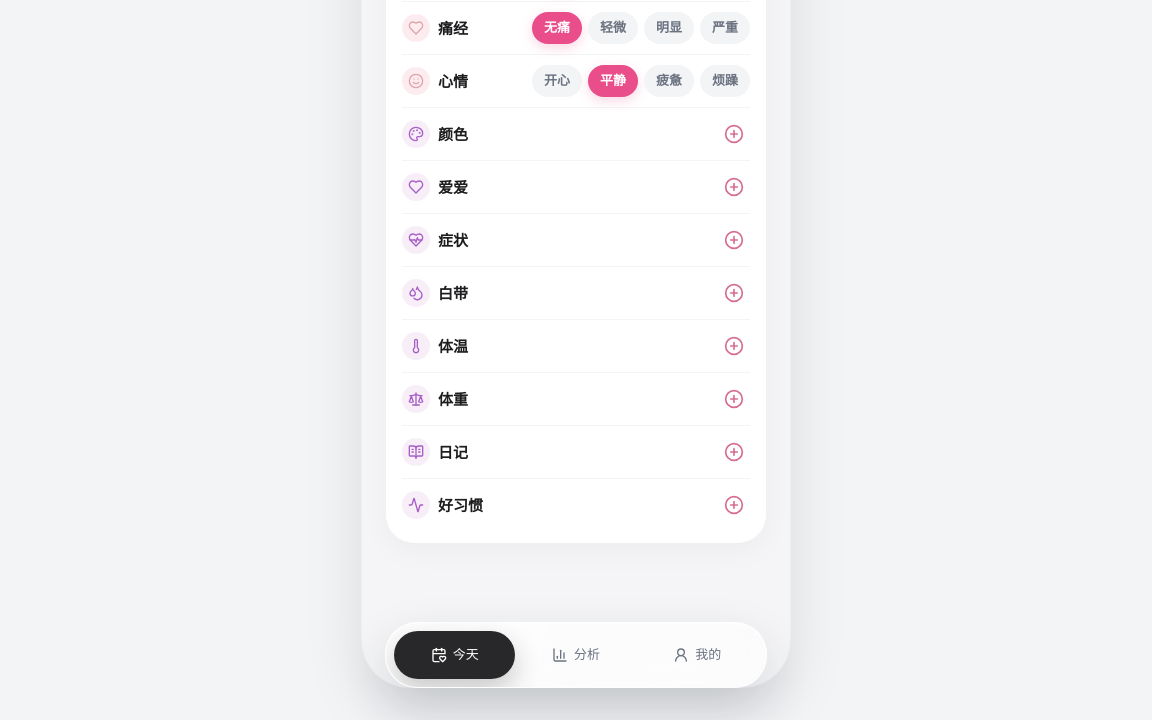
Scenario: Half Moon app › syncs a home weight detail into the profile tab
The width and height of the screenshot is (1152, 720).
(page scrolled)
Click the button named "添加体重".
click(734, 399)  # box [718,383,750,415]
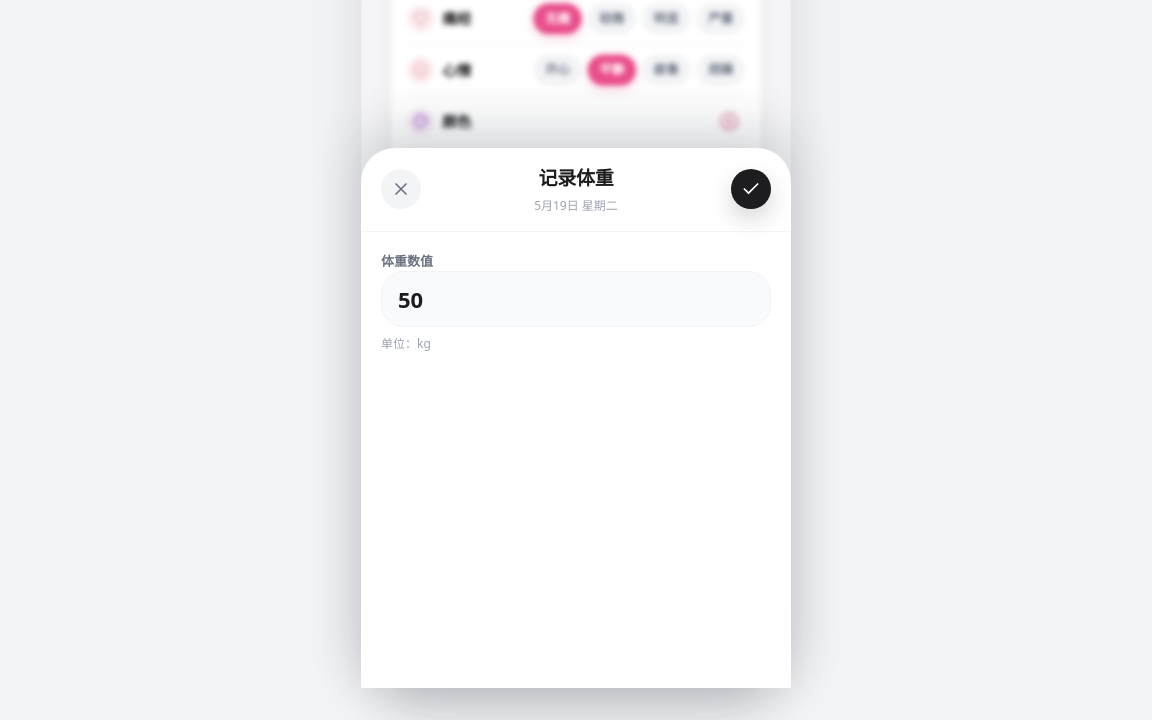
Replace the text in the number field labelled "体重数值" with "56.1" at (576, 299), box [381,271,771,327]
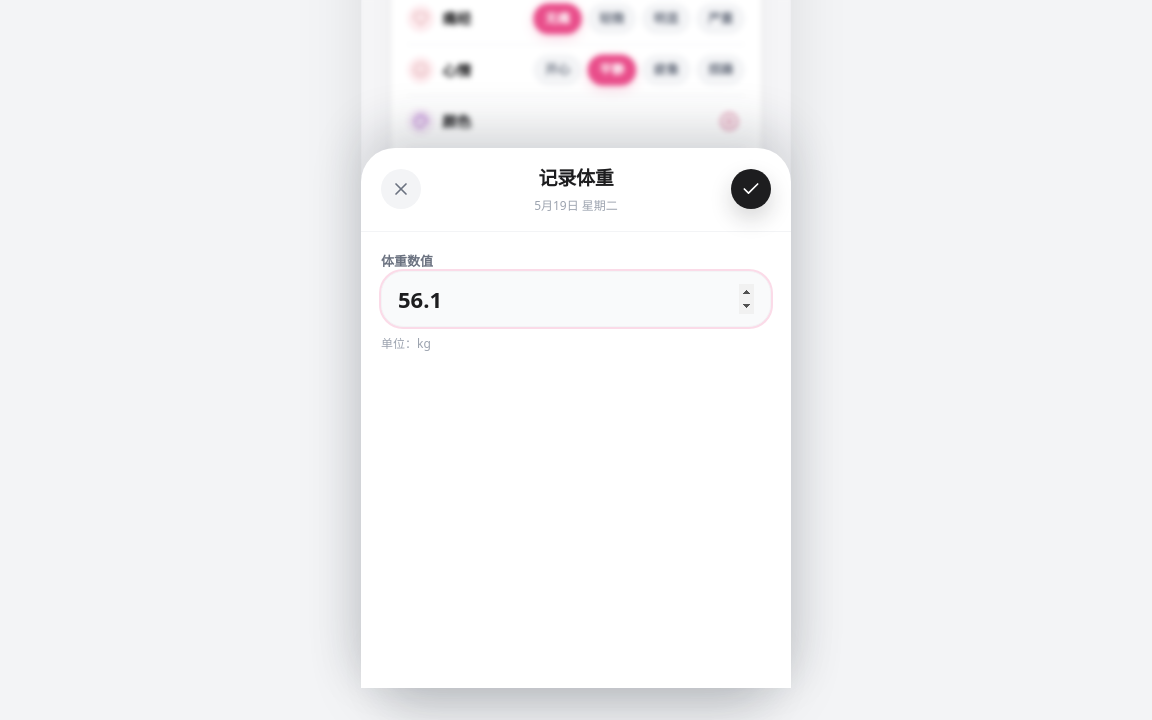
Click the button named "保存记录详情".
click(751, 189)  # box [731,169,771,209]
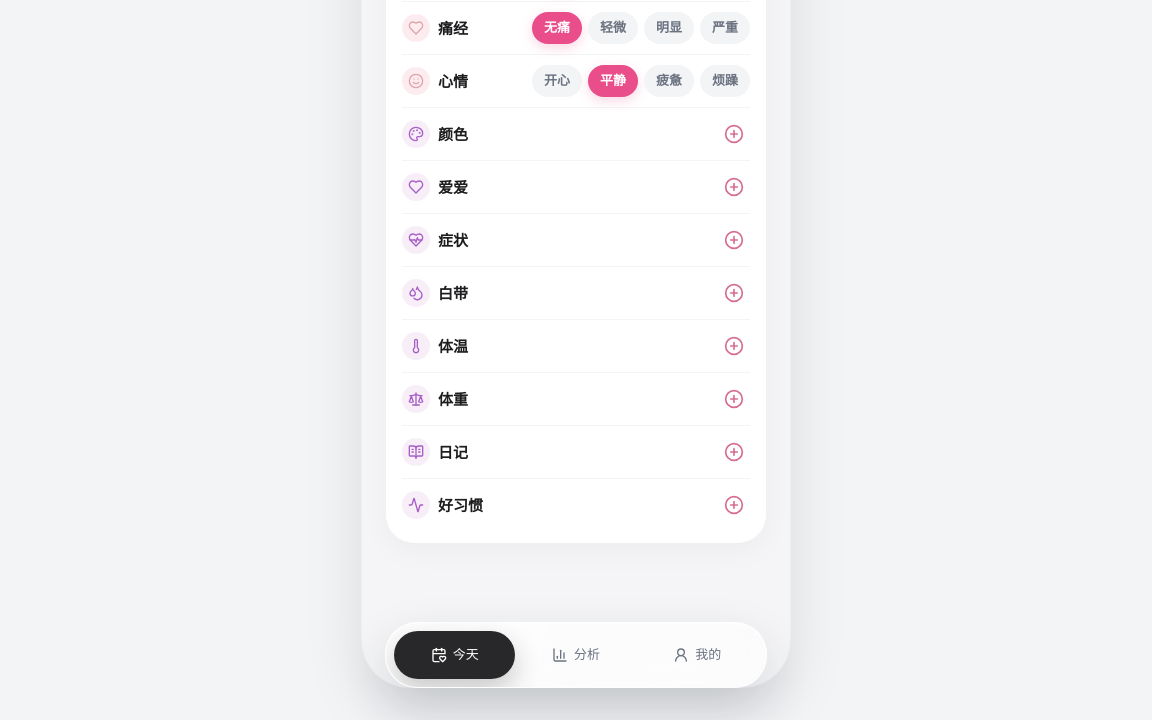
Click the button "我的".
click(697, 655)  # box [637,631,758,679]
(page scrolled)
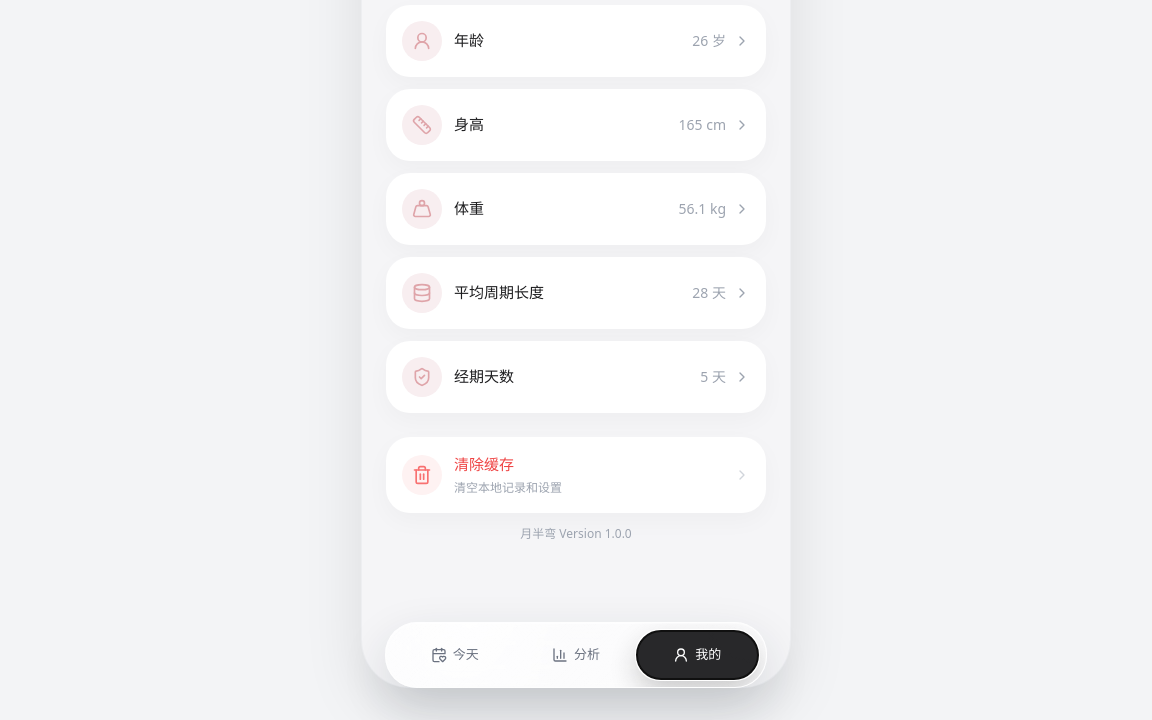
expect the text "56.1 kg" is shown: met, box [678,198,726,219]
